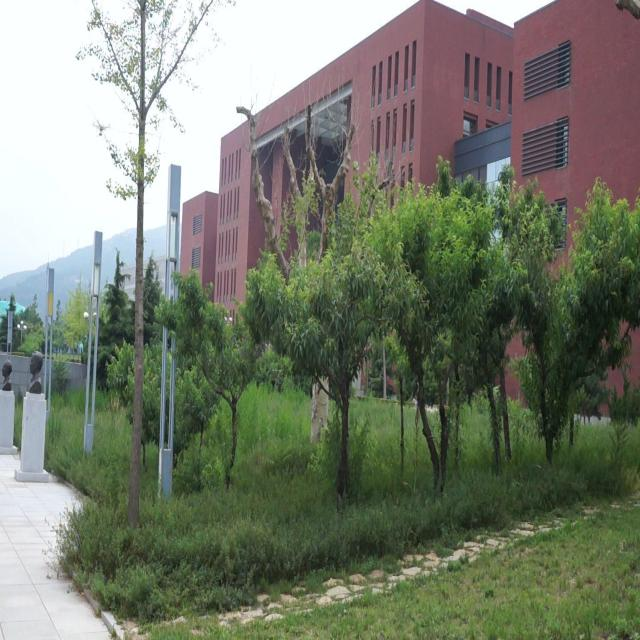UAV: (93, 122, 110, 136)
